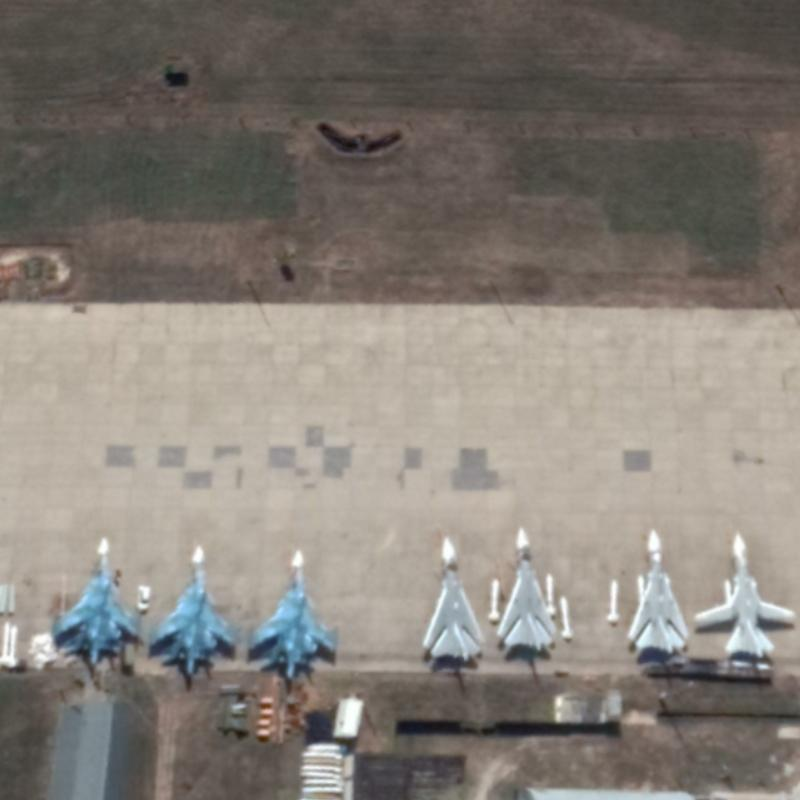A19: (243, 546, 342, 679), (145, 541, 243, 674), (48, 533, 143, 665)
A20: (691, 527, 797, 659), (623, 525, 690, 656), (419, 533, 485, 663), (493, 524, 559, 652)
